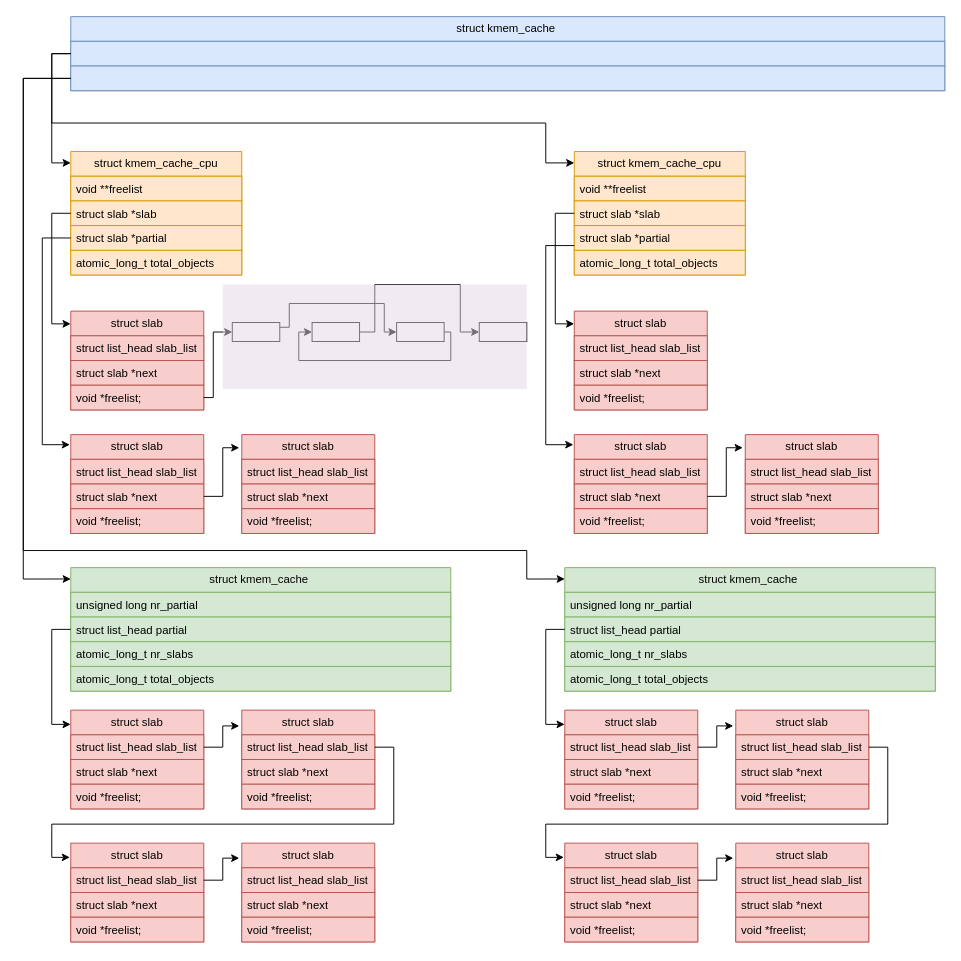
Image size: 961x961. Some labels were removed from this diagram. The centre of each missing label's shape, as x and y in pixels:
struct kmem_cache_cpu *cpu_slab: [507,53]
struct kmem_cache_node *node[1024]: [507,78]
空闲列表并不是按序（内存地址从低到高）关联，是随机的: [374,336]
